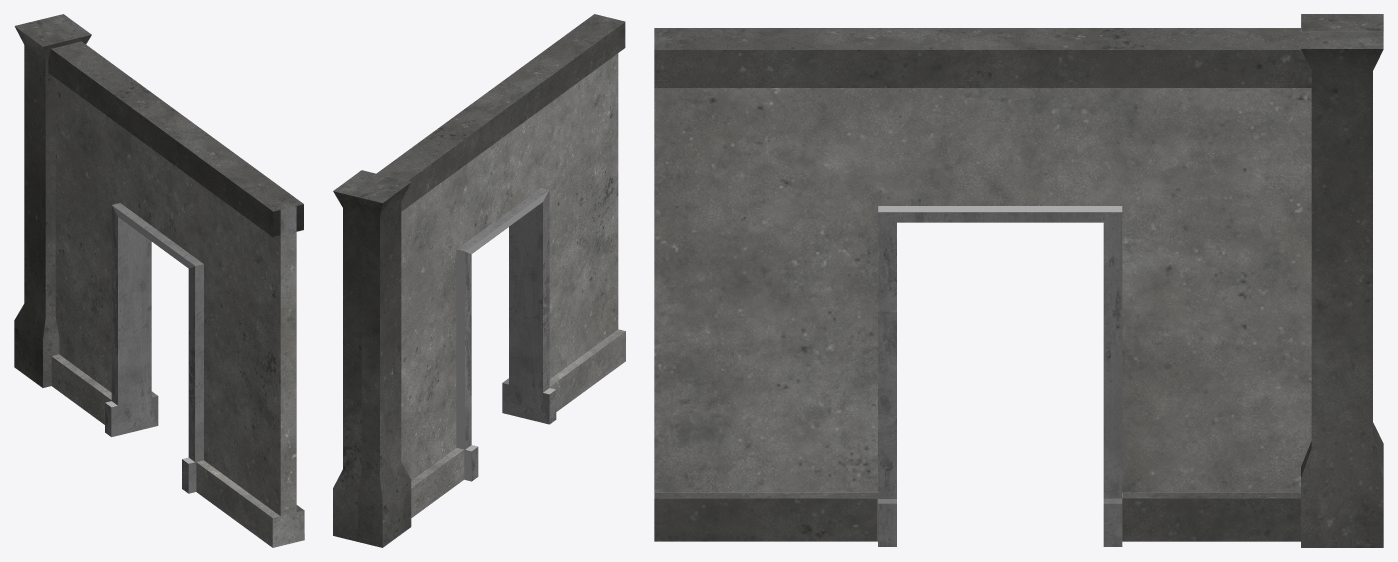
Rendered from SM_Wall_Door.fbx.
The picture shows the model from 3 angles, left to right: view 1: azimuth 30°, elevation 25°; view 2: azimuth 150°, elevation 25°; view 3: azimuth 270°, elevation 25°; orthographic projection. The views are drawn at different scales.
Parts seen in each view (by area): view 1: SM_Wall_Door; view 2: SM_Wall_Door; view 3: SM_Wall_Door.
Part boxes in pixels (x1,y1,x2,y2): SM_Wall_Door: [14, 14, 304, 547]; SM_Wall_Door: [333, 14, 625, 547]; SM_Wall_Door: [654, 14, 1383, 547].
Size of the model in its own units: 60.27 by 400 by 530.
